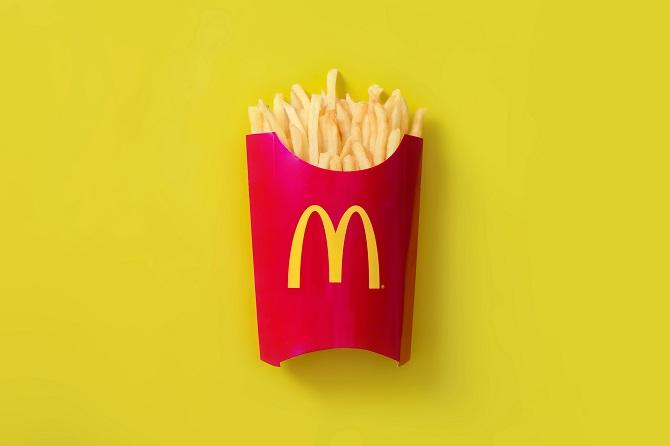mcdonalds: (281, 200, 382, 295)
